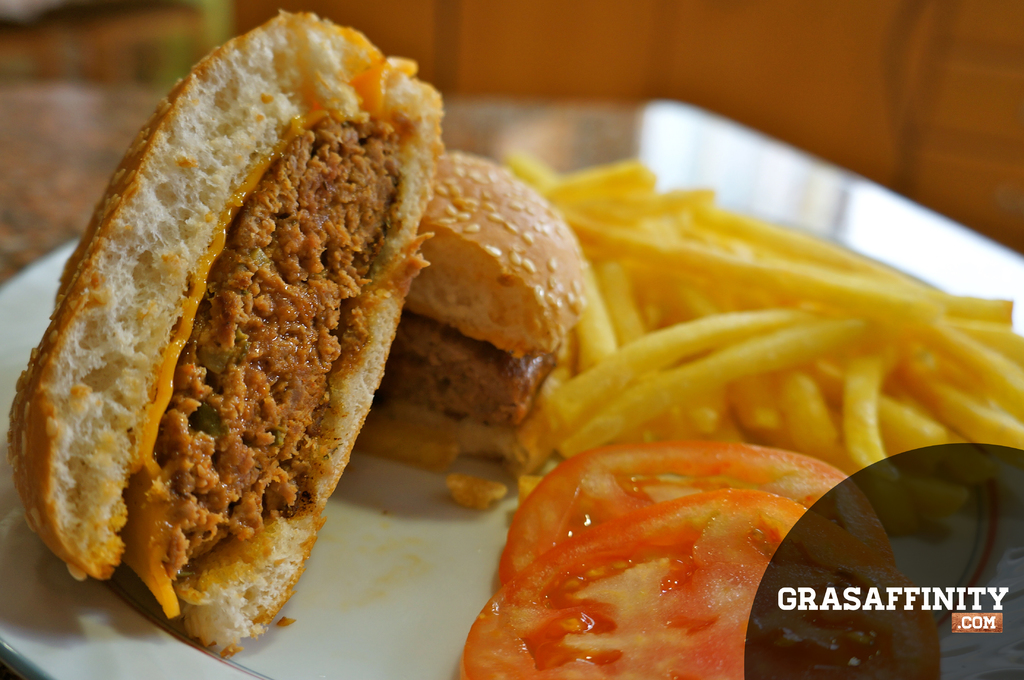French fries: (449, 140, 1023, 511)
